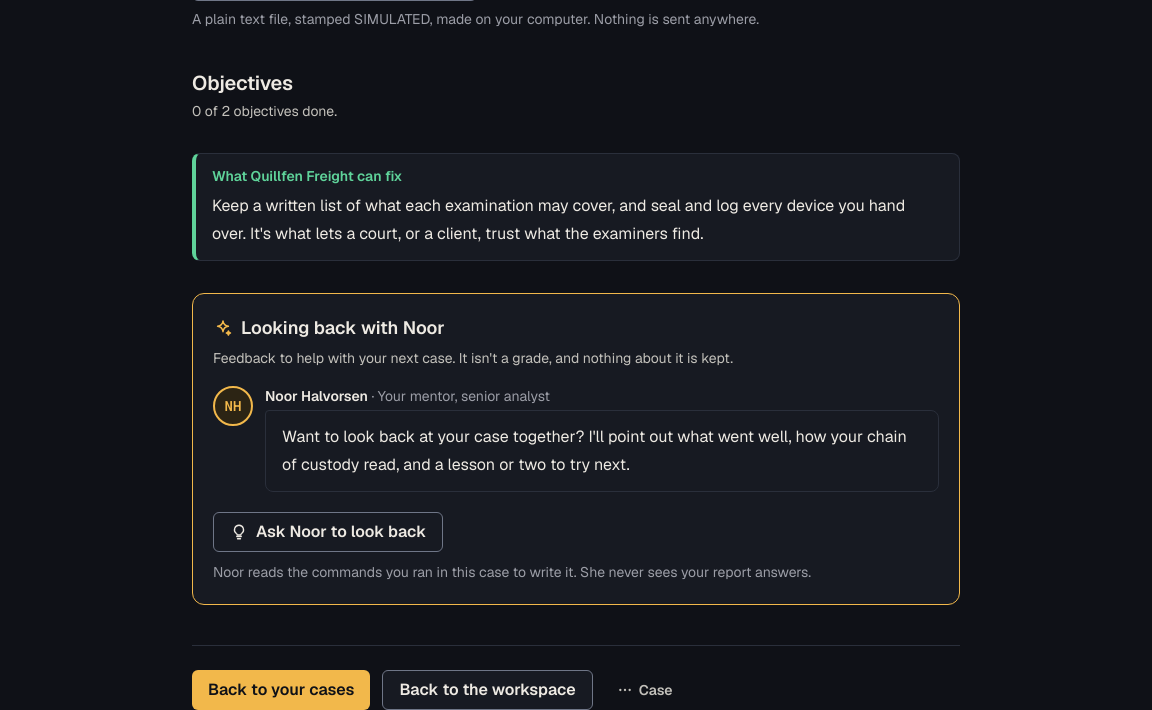
Scenario: the report and the debrief › leads the debrief with the stamp and the findings, then custody, then objectives, with one next step
(page scrolled)
Check: the button "Back to the workspace" is shown, box [382,670,593,709]
Check: the button "Start the case again" is not shown
Click the button "Case" at [645, 690], box [605,674,685,706]
(page scrolled)
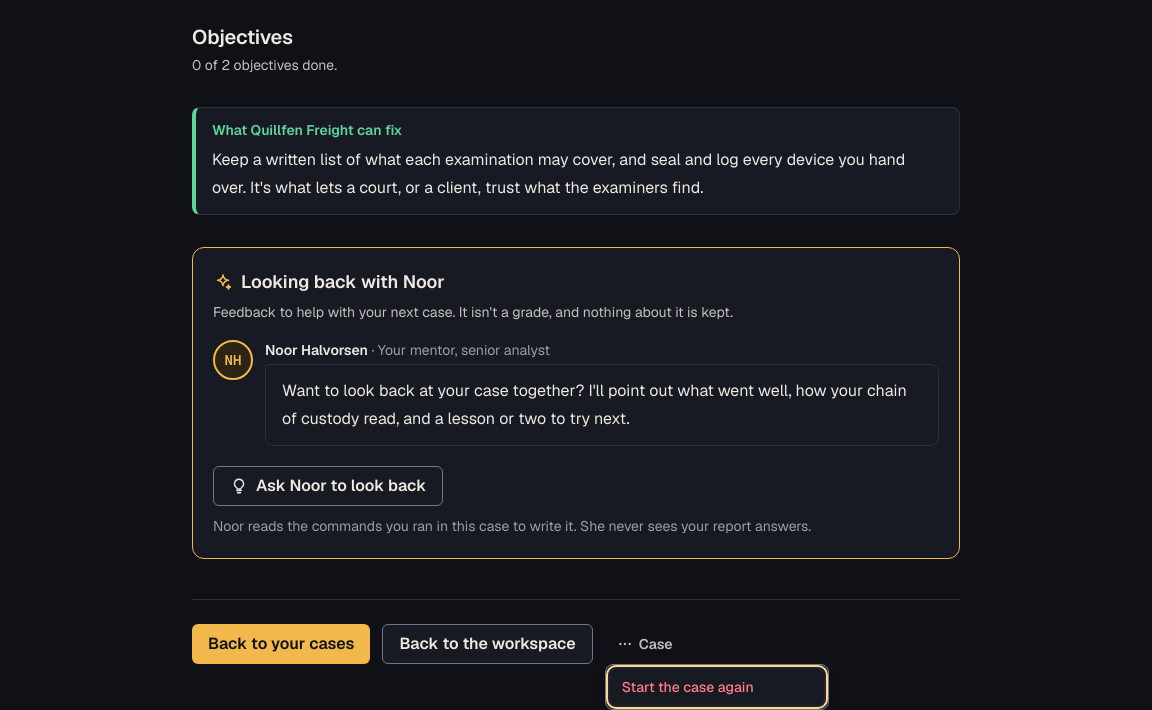
Click the menu item "Start the case again" at [717, 687], box [610,669,824,705]
(page scrolled)
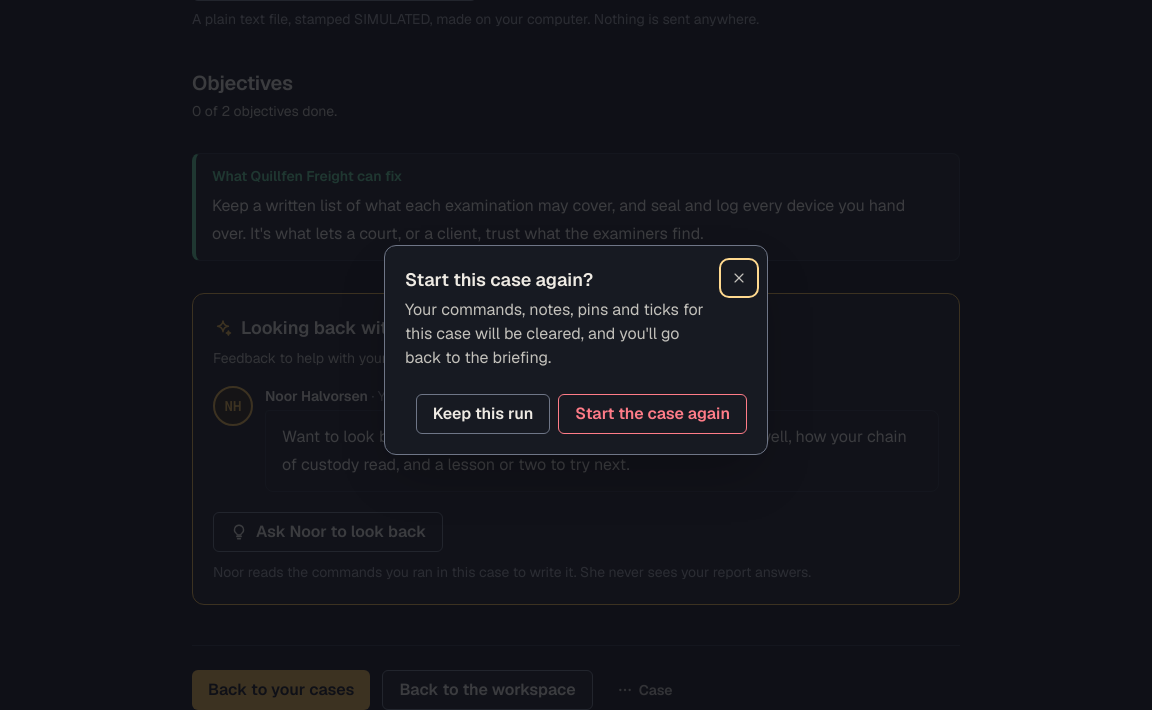
Check: the dialog "Start this case again?" is shown, box [384,245,768,455]
